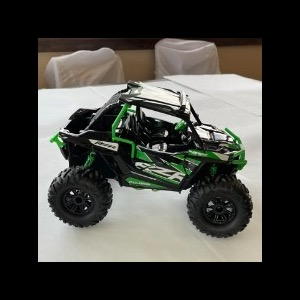polaris: (48, 81, 255, 241)
